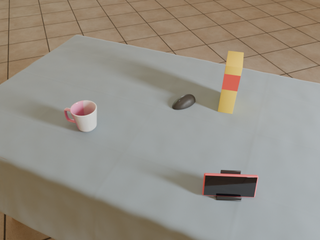box: (218, 51, 243, 114)
cup: (64, 101, 97, 132)
mouse: (172, 94, 195, 110)
phone: (202, 173, 258, 197)
